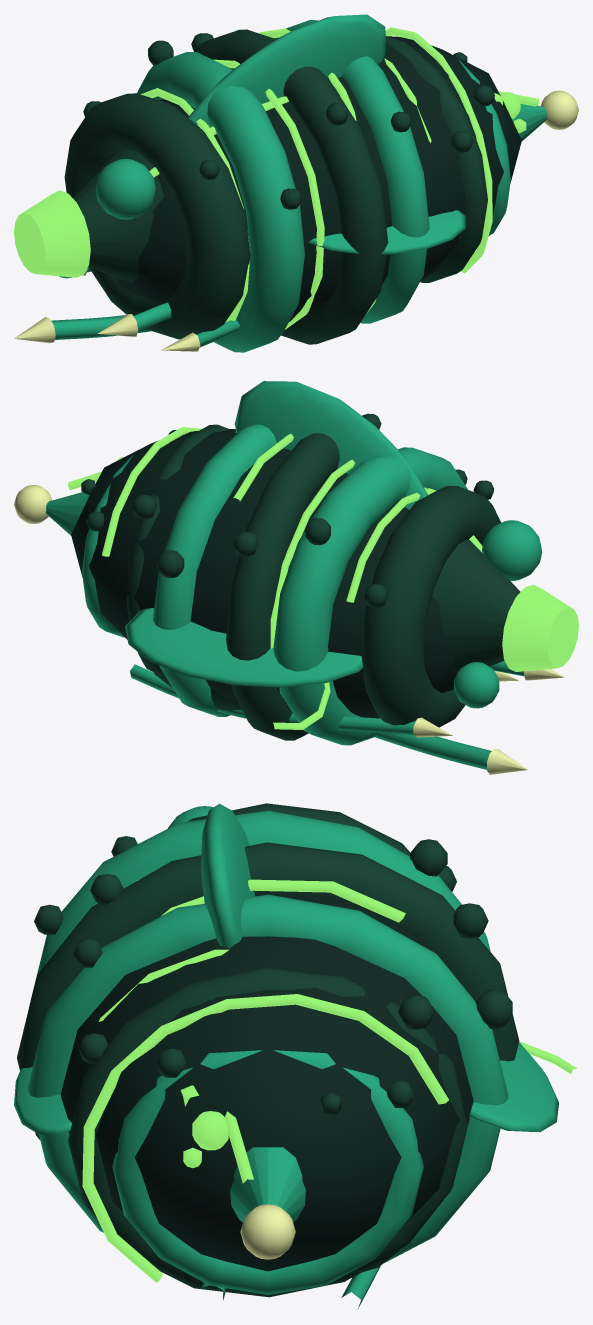
File: abyssal-submersible-pelagia.glb
3 renders of one model, top to bottom at view 1: azimuth 30°, elevation 25°; view 2: azimuth 150°, elevation 25°; view 3: azimuth 270°, elevation 25°, orthographic. The views are drawn at different scales.
Parts seen in each view (by area): view 1: seed-hull, growth-ring-1, growth-ring-2, growth-ring-3, growth-ring-4, dorsal-keel, nozzle-throat, growth-ring-5, aft-nozzle, aft-pod-a, fin-stb, vein-ring-e (+14 smaller); view 2: seed-hull, growth-ring-1, growth-ring-2, growth-ring-3, growth-ring-4, fin-port, dorsal-keel, aft-nozzle, nozzle-throat, aft-pod-a, growth-ring-5, tendril-port-1 (+14 smaller); view 3: seed-hull, growth-ring-4, growth-ring-3, growth-ring-6, growth-ring-5, growth-ring-2, vein-ring-e, dorsal-keel, fin-port, prow-beak, prow-tip, fin-stb (+14 smaller).
Boxes of the visible parts, bbox=[...] form: seed-hull: bbox=[116, 36, 521, 321]; growth-ring-1: bbox=[64, 93, 250, 339]; growth-ring-2: bbox=[137, 52, 304, 352]; growth-ring-3: bbox=[195, 29, 388, 344]; growth-ring-4: bbox=[274, 20, 429, 323]; dorsal-keel: bbox=[188, 14, 386, 127]; nozzle-throat: bbox=[14, 190, 90, 277]; growth-ring-5: bbox=[386, 36, 487, 282]; aft-nozzle: bbox=[72, 148, 164, 282]; aft-pod-a: bbox=[95, 159, 155, 219]; fin-stb: bbox=[308, 210, 466, 254]; vein-ring-e: bbox=[385, 27, 492, 273]; seed-hull: bbox=[71, 429, 456, 718]; growth-ring-1: bbox=[361, 486, 501, 735]; growth-ring-2: bbox=[273, 447, 467, 745]; growth-ring-3: bbox=[226, 433, 339, 740]; growth-ring-4: bbox=[153, 424, 276, 716]; fin-port: bbox=[125, 608, 363, 687]; dorsal-keel: bbox=[234, 381, 427, 509]; aft-nozzle: bbox=[432, 539, 520, 673]; nozzle-throat: bbox=[502, 584, 578, 671]; aft-pod-a: bbox=[482, 520, 542, 580]; growth-ring-5: bbox=[126, 424, 228, 673]; tendril-port-1: bbox=[374, 732, 491, 769]; seed-hull: bbox=[60, 892, 473, 1271]; growth-ring-4: bbox=[27, 894, 508, 1262]; growth-ring-3: bbox=[17, 842, 519, 1139]; growth-ring-6: bbox=[112, 1050, 423, 1294]; growth-ring-5: bbox=[68, 967, 467, 1297]; growth-ring-2: bbox=[31, 810, 490, 998]; vein-ring-e: bbox=[82, 994, 448, 1282]; dorsal-keel: bbox=[201, 804, 254, 948]; fin-port: bbox=[469, 1042, 558, 1132]; prow-beak: bbox=[230, 1147, 305, 1222]; prow-tip: bbox=[240, 1204, 295, 1259]; fin-stb: bbox=[14, 1066, 71, 1134].
Bounding box in the file's own units: 95 × 53.22 × 60.21.
